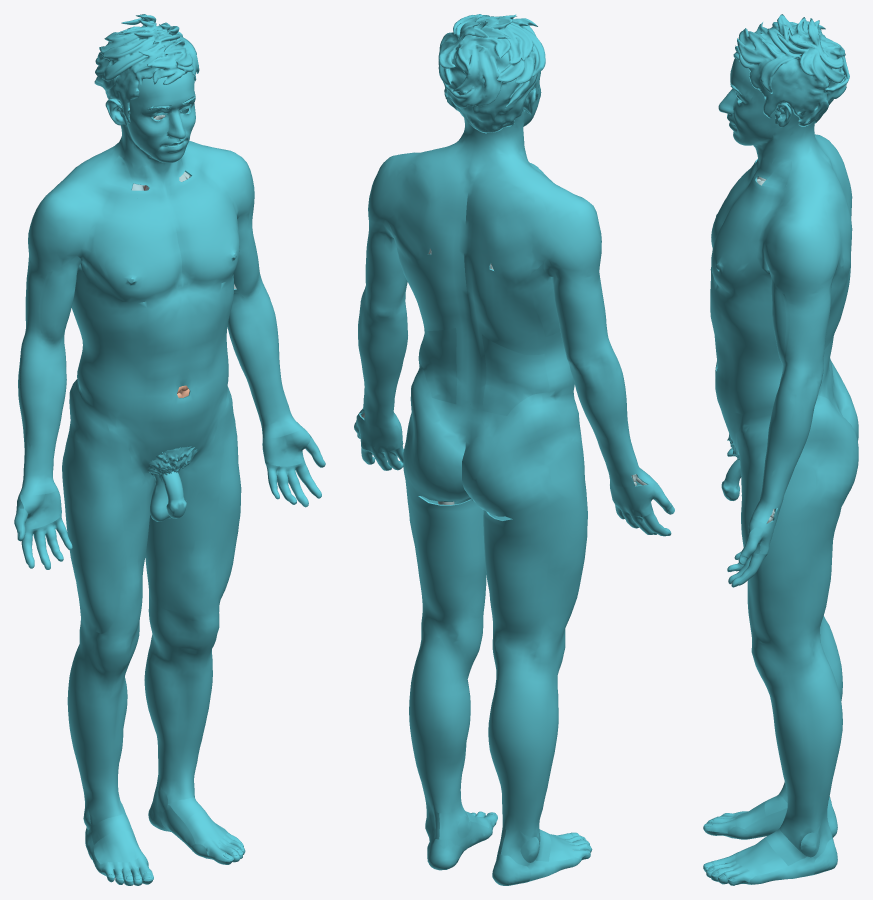
File: z-anatomy-1.4.0-hologram-core.glb
3 views of the same model, side by side, from view 1: azimuth 30°, elevation 25°; view 2: azimuth 150°, elevation 25°; view 3: azimuth 270°, elevation 25° (orthographic). The views are drawn at different scales.
Visible parts, largest first — view 1: body-shell__Anterior_region_of_thighr, body-shell__Anterior_region_of_thighl, body-shell__Hairs_of_head, body-shell__Anterior_region_of_legl, body-shell__Anterior_region_of_legr, body-shell__Pectoral_regionr, body-shell__Deltoid_regionr, body-shell__Anterior_region_of_forearml, body-shell__Anterior_region_of_forearmr, body-shell__Lateral_region_of_thoraxr, body-shell__Lateral_region_of_abdomenr, body-shell__Pectoral_regionl (+46 smaller); view 2: body-shell__Posterior_region_of_thighr, body-shell__Hairs_of_head, body-shell__Gluteal_regionr, body-shell__Posterior_region_of_thighl, body-shell__Posterior_region_of_legr, body-shell__Posterior_region_of_legl, body-shell__Gluteal_regionl, body-shell__Scapular_regionr, body-shell__Posterior_region_of_armr, body-shell__Infrascapular_regionr, body-shell__Scapular_regionl, body-shell__Posterior_region_of_forearmr (+32 smaller); view 3: body-shell__Hairs_of_head, body-shell__Anterior_region_of_thighl, body-shell__Posterior_region_of_thighl, body-shell__Deltoid_regionl, body-shell__Gluteal_regionl, body-shell__Posterior_region_of_legl, body-shell__Lateral_region_of_thoraxl, body-shell__Anterior_region_of_legl, body-shell__Lateral_region_of_abdomenl, body-shell__Pectoral_regionl, body-shell__Posterior_region_of_arml, body-shell__Posterior_region_of_neckl (+45 smaller).
Part boxes in pixels (x1,y1,x2,y2): body-shell__Anterior_region_of_thighr: [69, 382, 154, 636]; body-shell__Anterior_region_of_thighl: [150, 383, 241, 615]; body-shell__Hairs_of_head: [94, 14, 199, 123]; body-shell__Anterior_region_of_legl: [153, 654, 212, 780]; body-shell__Anterior_region_of_legr: [74, 674, 127, 799]; body-shell__Pectoral_regionr: [94, 205, 174, 302]; body-shell__Deltoid_regionr: [28, 174, 90, 271]; body-shell__Anterior_region_of_forearml: [228, 304, 292, 425]; body-shell__Anterior_region_of_forearmr: [22, 360, 66, 481]; body-shell__Lateral_region_of_thoraxr: [71, 225, 147, 333]; body-shell__Lateral_region_of_abdomenr: [77, 342, 147, 422]; body-shell__Pectoral_regionl: [183, 179, 238, 284]; body-shell__Posterior_region_of_thighr: [483, 496, 579, 640]; body-shell__Hairs_of_head: [438, 14, 545, 133]; body-shell__Gluteal_regionr: [462, 392, 567, 518]; body-shell__Posterior_region_of_thighl: [404, 472, 485, 624]; body-shell__Posterior_region_of_legr: [488, 688, 555, 830]; body-shell__Posterior_region_of_legl: [409, 667, 468, 813]; body-shell__Gluteal_regionl: [403, 360, 470, 501]; body-shell__Scapular_regionr: [486, 191, 559, 287]; body-shell__Posterior_region_of_armr: [543, 242, 606, 348]; body-shell__Infrascapular_regionr: [475, 273, 545, 354]; body-shell__Scapular_regionl: [379, 164, 436, 266]; body-shell__Posterior_region_of_forearmr: [570, 368, 640, 475]; body-shell__Hairs_of_head: [733, 14, 849, 126]; body-shell__Anterior_region_of_thighl: [738, 407, 787, 646]; body-shell__Posterior_region_of_thighl: [783, 506, 841, 645]; body-shell__Deltoid_regionl: [763, 197, 834, 297]; body-shell__Gluteal_regionl: [798, 395, 858, 509]; body-shell__Posterior_region_of_legl: [798, 679, 842, 822]; body-shell__Lateral_region_of_thoraxl: [715, 229, 846, 343]; body-shell__Anterior_region_of_legl: [770, 696, 806, 822]; body-shell__Lateral_region_of_abdomenl: [723, 347, 782, 414]; body-shell__Pectoral_regionl: [711, 197, 769, 291]; body-shell__Posterior_region_of_arml: [799, 248, 839, 364]; body-shell__Posterior_region_of_neckl: [784, 120, 834, 199].
Bounding box in the file's own units: 0.6801 × 1.74 × 0.294.
